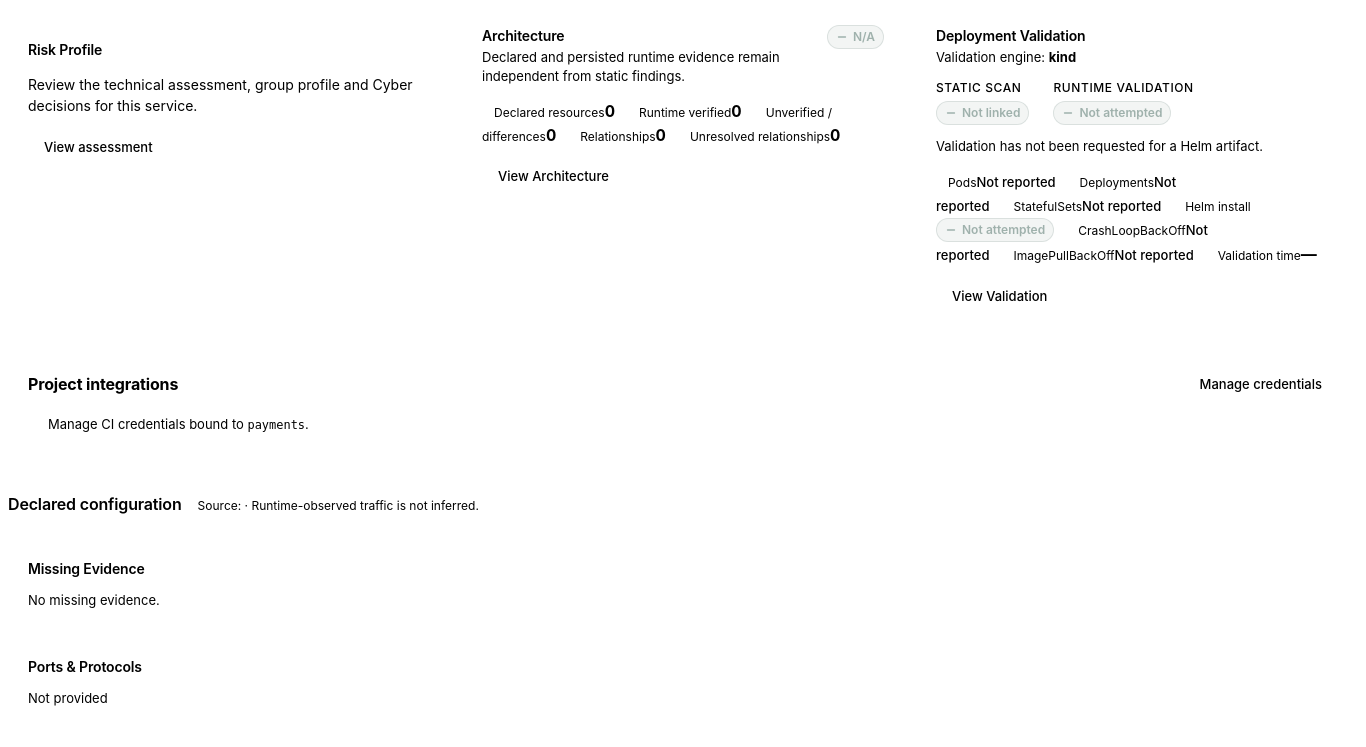
Test: allows reviewing credentials while issuance is unavailable
(page scrolled)
Click the button "Manage credentials".
click(1261, 384)  # box [1184,366,1338,402]
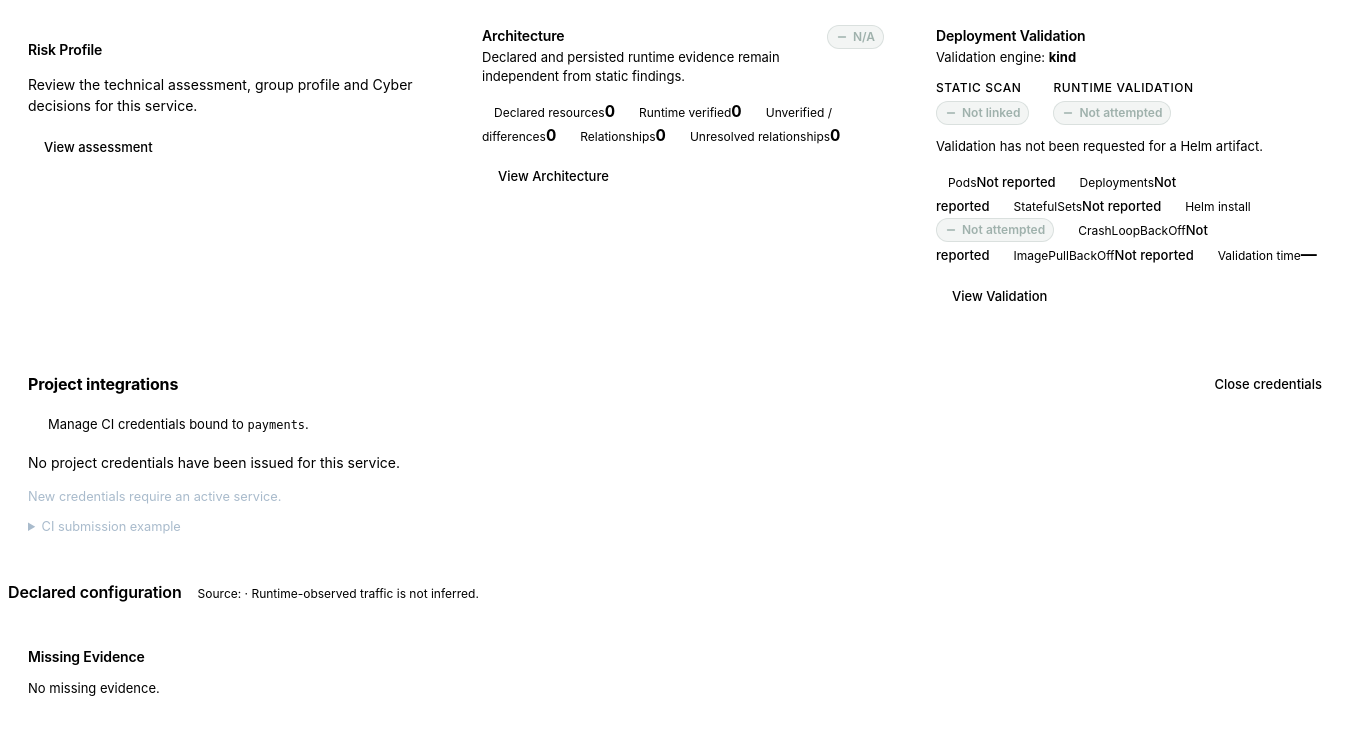
Expected: the text "New credentials require an active service." is shown, [28,488,282,504]
